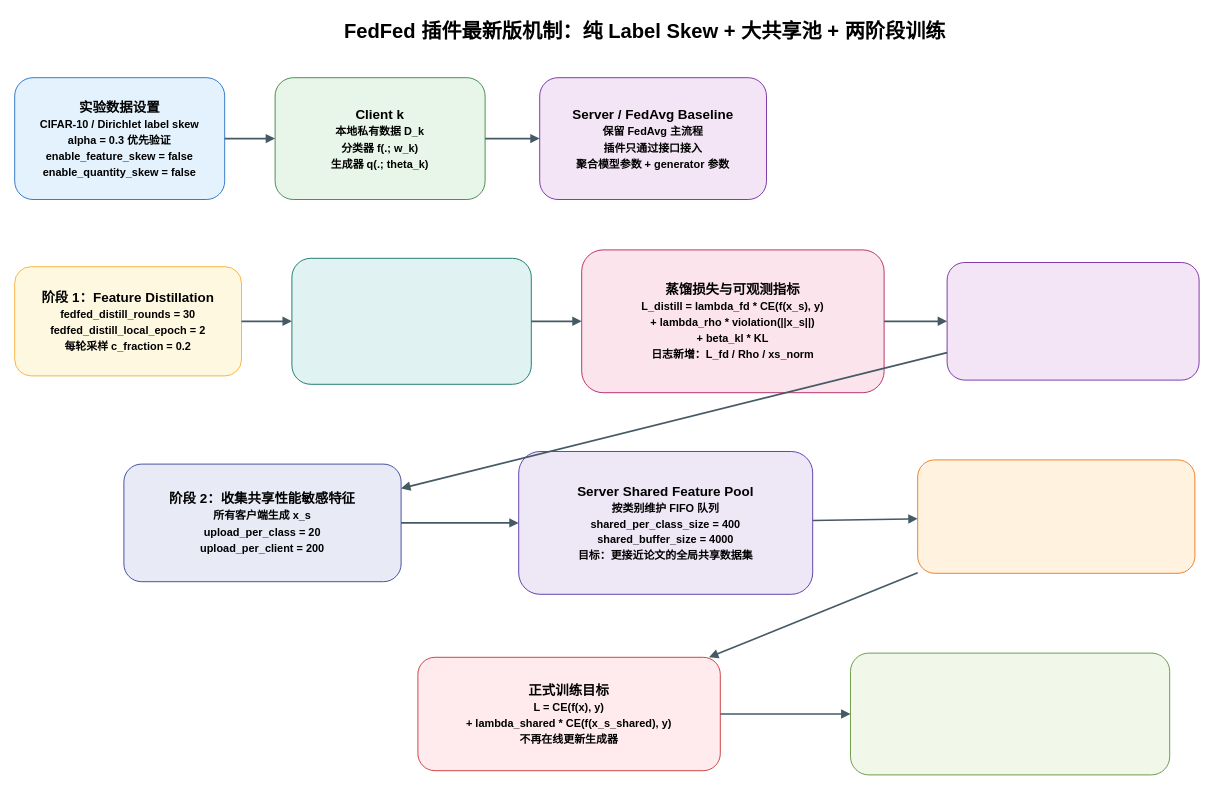
This 1214x790 diagram has some shape labels left out. The centre of each missing label's shape, as x and y in pixels:
"当前验证目标 不追求所有场景碾压 先在 alpha=0.3 且 local_epoch=1 或 5 拿到显著优于 FedAvg 的结果" belongs at [1010,713].
"特征分离 / 竞争机制 x_r = q(x) x_s = clip(x - q(x)) 目标：x_s 小但可分类" belongs at [411,320].
"蒸馏阶段服务器聚合 聚合 w_k 得到全局分类器 聚合 theta_k 得到全局生成器 下一蒸馏轮广播 w, theta" belongs at [1072,321].
"阶段 3：正式 FedAvg 训练 formal_online_distill = false 本地原图训练 + 共享 x_s 辅助训练" belongs at [1056,516].
